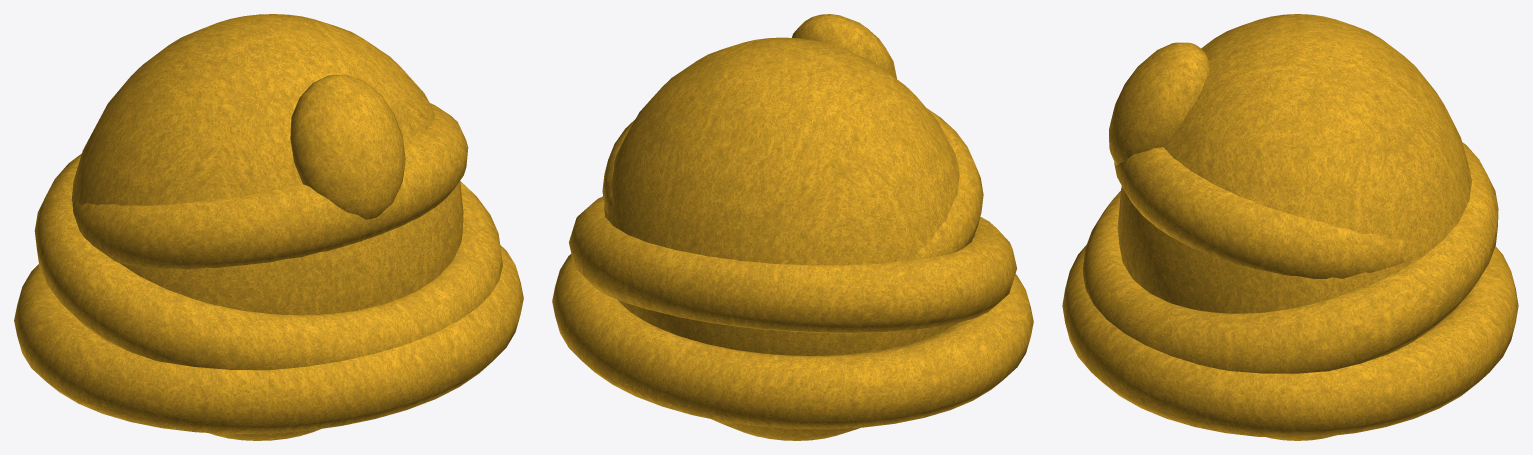
The model's file is turban4.fbx.
3 renders of one model, left to right at view 1: azimuth 30°, elevation 25°; view 2: azimuth 150°, elevation 25°; view 3: azimuth 270°, elevation 25°, orthographic. The views are drawn at different scales.
Visible parts, largest first — view 1: turban4; view 2: turban4; view 3: turban4.
Boxes of the visible parts, x1=… form: turban4: x1=14, y1=14, x2=523, y2=440; turban4: x1=552, y1=14, x2=1033, y2=440; turban4: x1=1062, y1=14, x2=1518, y2=440.
Size of the model in its own units: 0.72 by 0.6 by 0.6336.
Materials: 1 (1 with a texture image).
